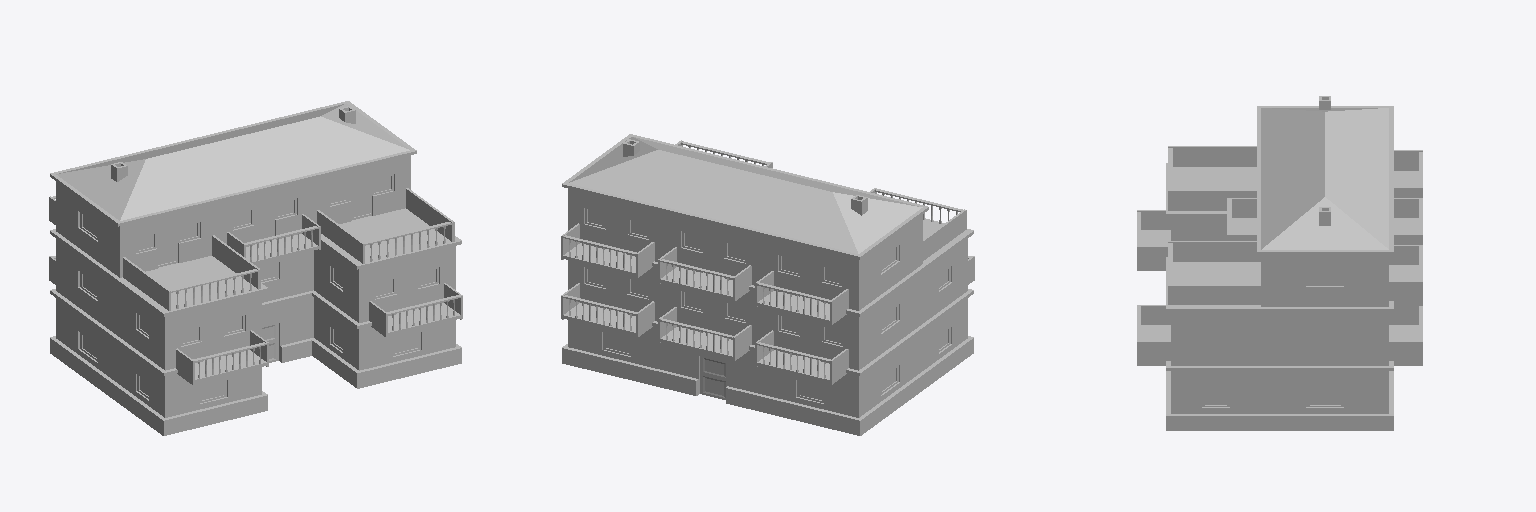
The model's file is building1.obj.
3 views of the same model, side by side, from view 1: azimuth 30°, elevation 25°; view 2: azimuth 150°, elevation 25°; view 3: azimuth 270°, elevation 25° (orthographic).
Parts seen in each view (by area): view 1: Homemount7; view 2: Homemount7; view 3: Homemount7.
Boxes of the visible parts, box(x1,y1,x2,y2) form: Homemount7: box(49, 101, 462, 435); Homemount7: box(561, 134, 974, 435); Homemount7: box(1137, 96, 1422, 430).
Bounding box in the file's own units: 14.95 × 9.76 × 12.42.